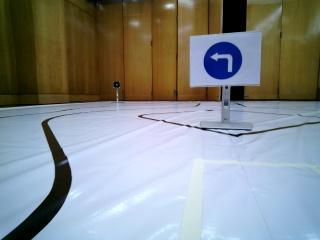left: (193, 39, 255, 85)
